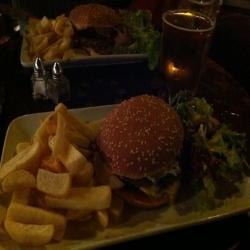burger: (90, 88, 190, 213), (66, 2, 120, 59)
fries: (8, 118, 94, 235)
salad: (184, 107, 246, 209), (131, 15, 157, 58)
